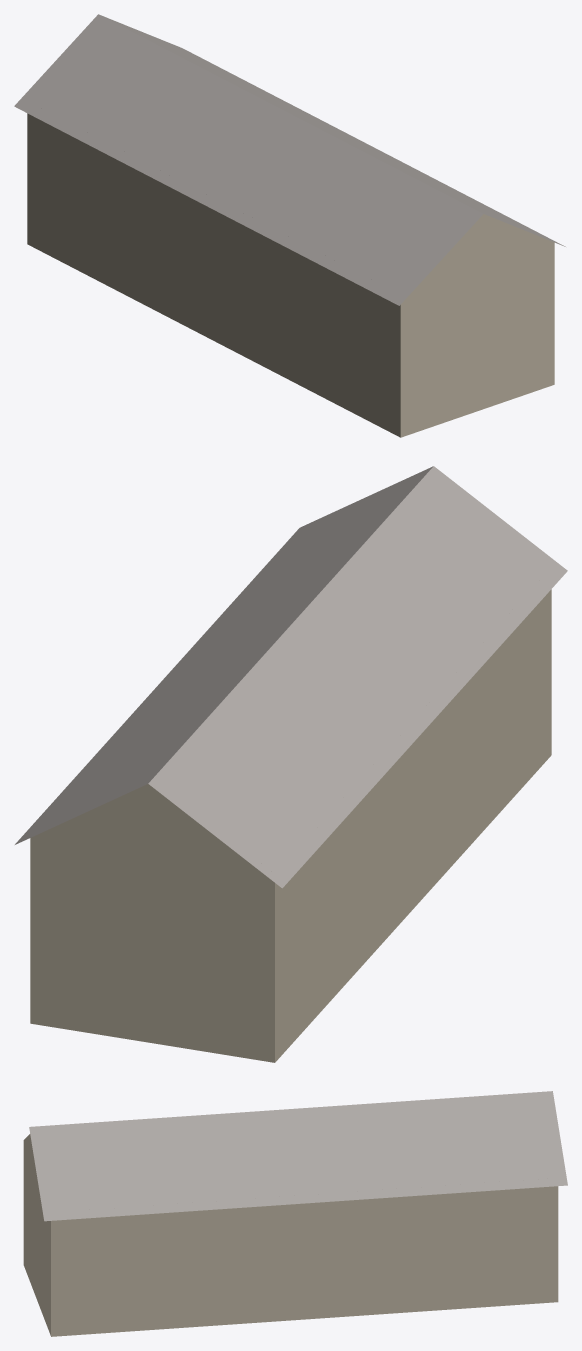
The picture shows the model from 3 angles, top to bottom: view 1: azimuth 30°, elevation 25°; view 2: azimuth 150°, elevation 25°; view 3: azimuth 270°, elevation 25°; orthographic projection. The views are drawn at different scales.
Visible parts, largest first — view 1: tuile; view 2: tuile; view 3: tuile.
Boxes of the visible parts, x1,y1,x2,y2 form: tuile: (14, 14, 565, 437); tuile: (15, 466, 567, 1062); tuile: (23, 1091, 567, 1336).
Size of the model in its own units: 11.38 by 8.06 by 23.2.
